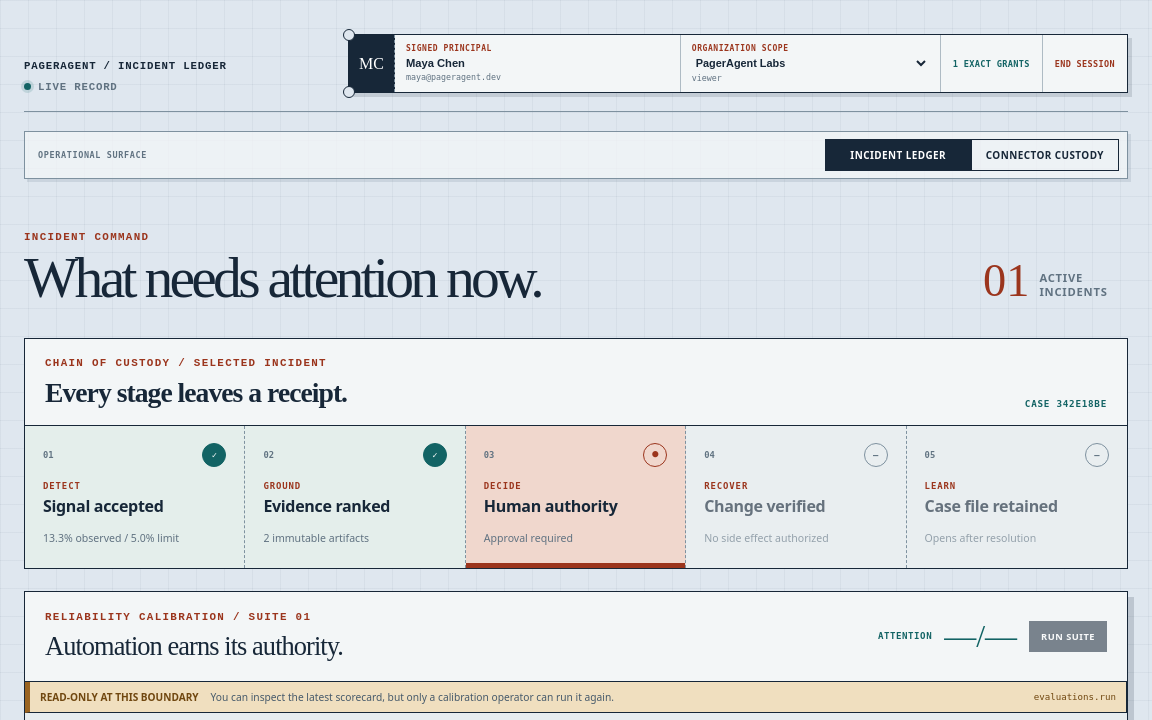
Test: shows exact read-only boundaries for a viewer and removes manual mitigation
expect the button "Run suite" is disabled: met, box [1029,621,1107,652]
Click the button "Connector custody": (1045, 155) [972,140,1118,170]
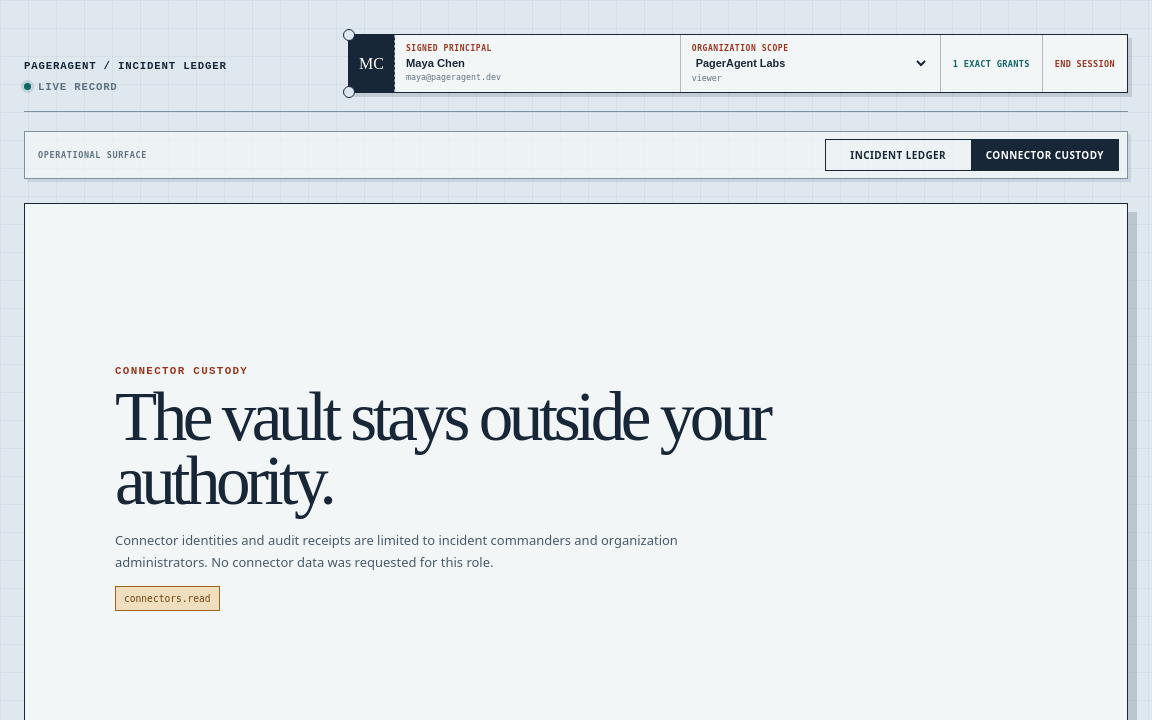
expect the heading "The vault stays outside your authority." is shown: met, box [115,385,875,512]
expect the text "connectors.read" is shown: met, box [115,586,220,611]
